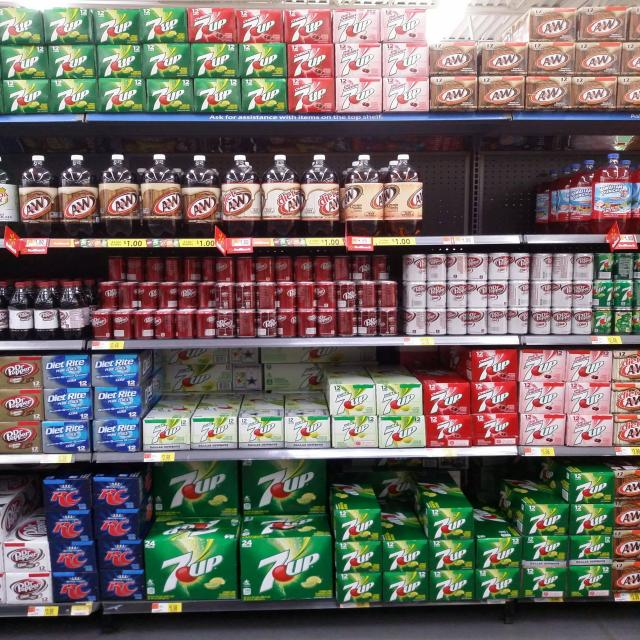void: (424, 146, 538, 235)
